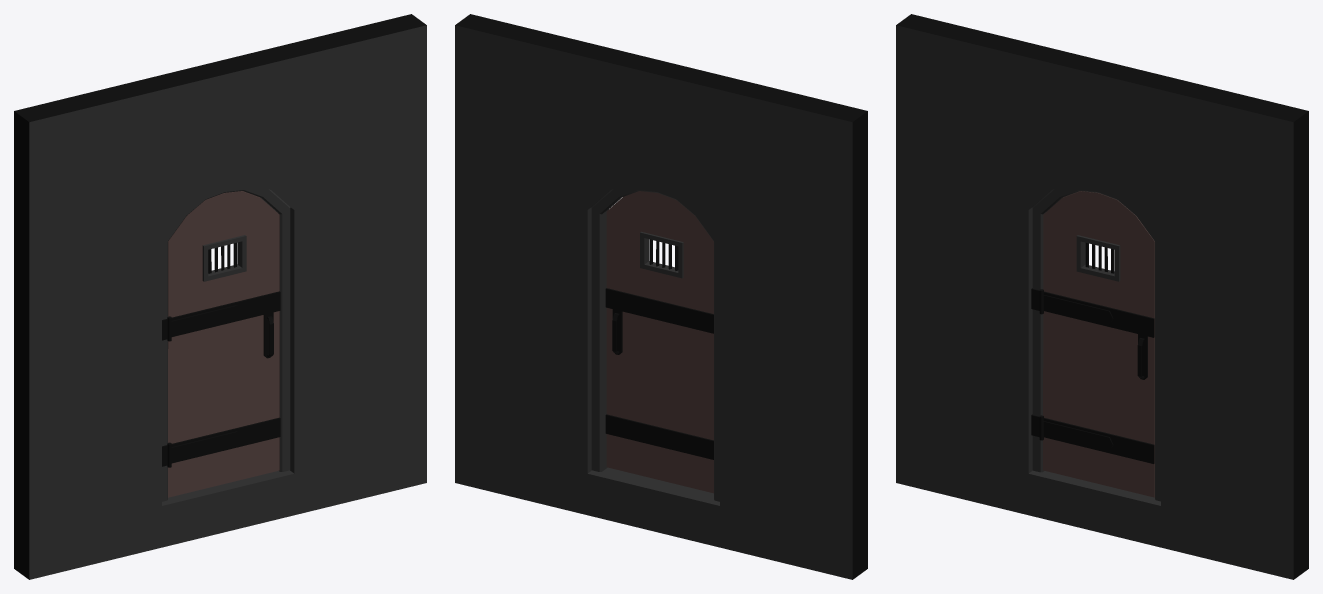
Rendered from wall_door.FBX.
3 views of the same model, side by side, from view 1: azimuth 30°, elevation 25°; view 2: azimuth 150°, elevation 25°; view 3: azimuth 330°, elevation 25° (orthographic).
Visible parts, largest first — view 1: Box001, Line002, Object004; view 2: Box001, Line002, Object004; view 3: Box001, Line002, Object004.
Part boxes in pixels (x1,y1,x2,y2): Box001: (14,14,426,579); Line002: (167,191,280,497); Object004: (162,182,290,501); Box001: (455,14,867,579); Line002: (605,191,713,493); Object004: (591,182,719,501); Box001: (896,14,1308,579); Line002: (1039,191,1154,497); Object004: (1031,182,1160,501).
Size of the model in its own units: 300 by 330 by 20.
